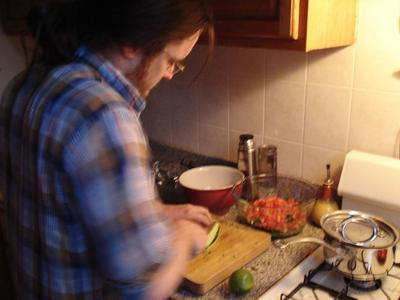person: (2, 2, 218, 300)
